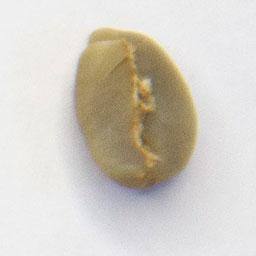premium: (71, 24, 202, 193)
